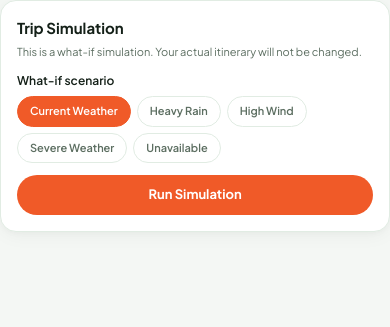
Test case: SimulationCard › renders no-impact simulation
Click the button "Run Simulation": (195, 195) [17,175,373,214]
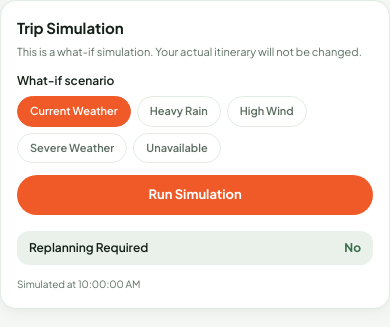
Now the text "Replanning Required" is shown, box [29,238,148,256]
Now the text "No" is shown, box [344,238,361,256]
